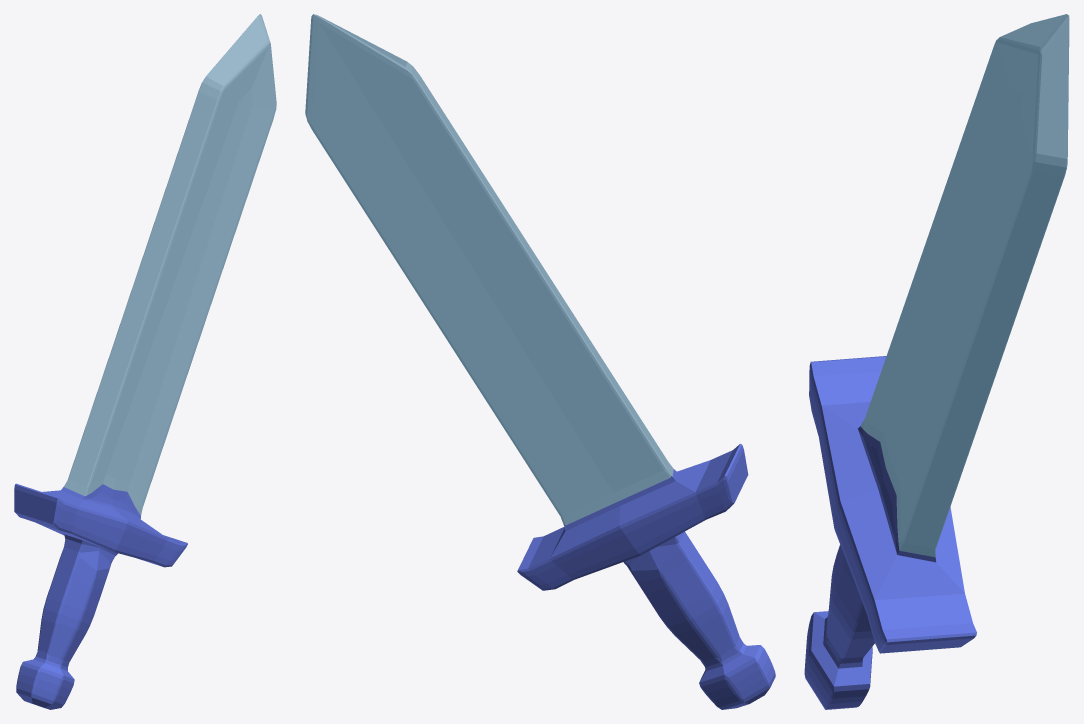
Rendered from MadeByJawns_ItchIO_GameItems_v1_0_1_Sword.glb.
The picture shows the model from 3 angles, left to right: view 1: azimuth 30°, elevation 25°; view 2: azimuth 150°, elevation 25°; view 3: azimuth 270°, elevation 25°; orthographic projection. The views are drawn at different scales.
Parts seen in each view (by area): view 1: Sword; view 2: Sword; view 3: Sword.
Boxes of the visible parts, x1,y1,x2,y2 form: Sword: [14, 14, 276, 709]; Sword: [305, 14, 775, 709]; Sword: [804, 14, 1069, 709].
Size of the model in its own units: 4.15 by 7 by 1.85.
